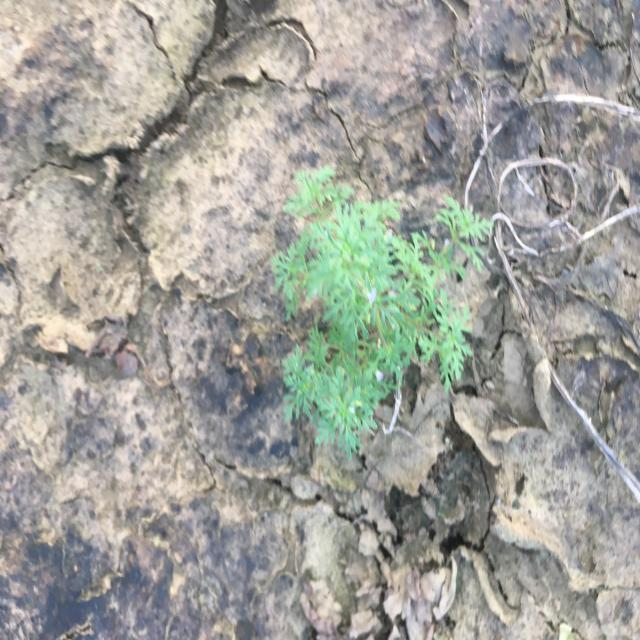Ragweed: (270, 162, 495, 464)
